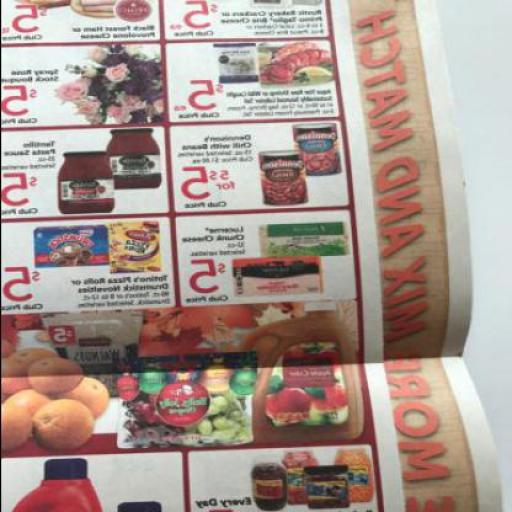paper: (1, 0, 502, 511)
